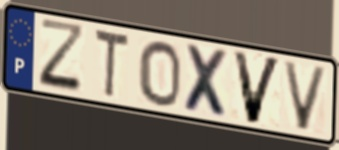O: (136, 38, 183, 109)
T: (92, 25, 131, 102)
V: (230, 48, 285, 127), (280, 59, 330, 134)
X: (182, 41, 232, 122)
Z: (37, 16, 87, 97)
